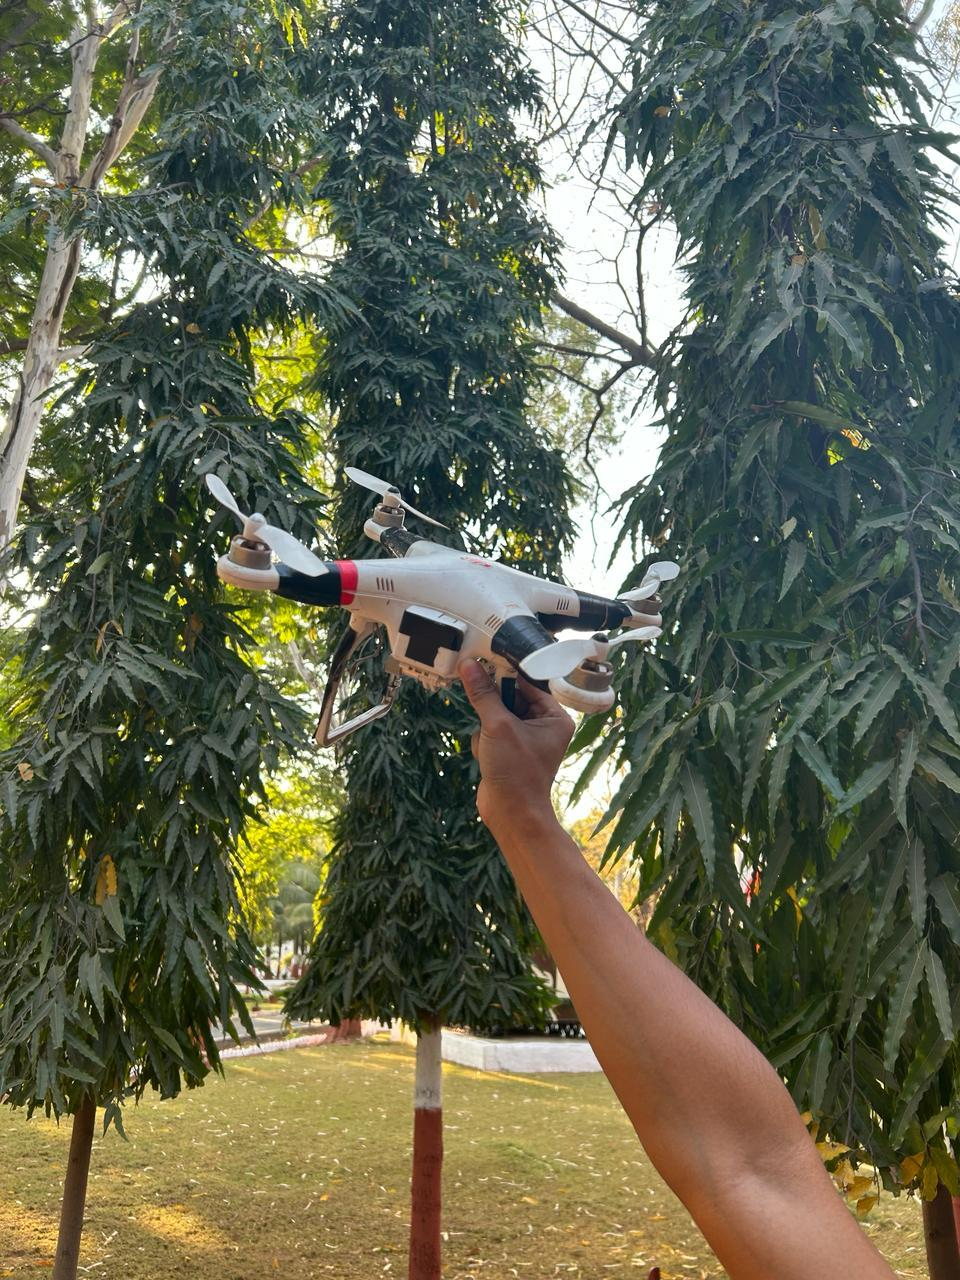drone: (174, 431, 756, 810)
